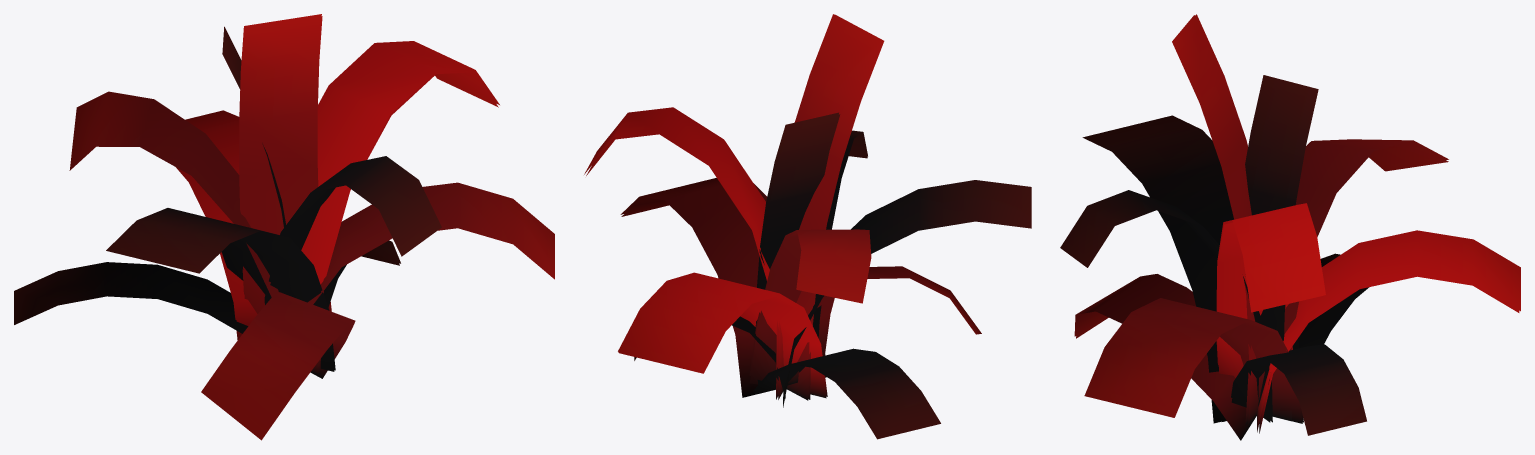
File: TinyW10_high.FBX
3 renders of one model, left to right at view 1: azimuth 30°, elevation 25°; view 2: azimuth 150°, elevation 25°; view 3: azimuth 270°, elevation 25°, orthographic. The views are drawn at different scales.
Parts seen in each view (by area): view 1: TinyW10_high; view 2: TinyW10_high; view 3: TinyW10_high.
Part boxes in pixels (<box>): TinyW10_high: <box>14,14,554,440</box>; TinyW10_high: <box>584,14,1031,439</box>; TinyW10_high: <box>1060,14,1520,440</box>.
Size of the model in its own units: 0.7696 by 0.6499 by 0.7069.
